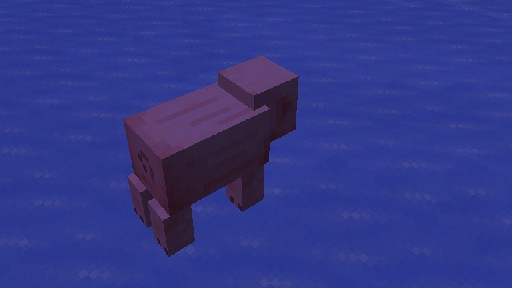pig: (122, 54, 299, 256)
